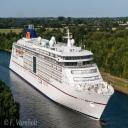cruises: (8, 22, 116, 123)
